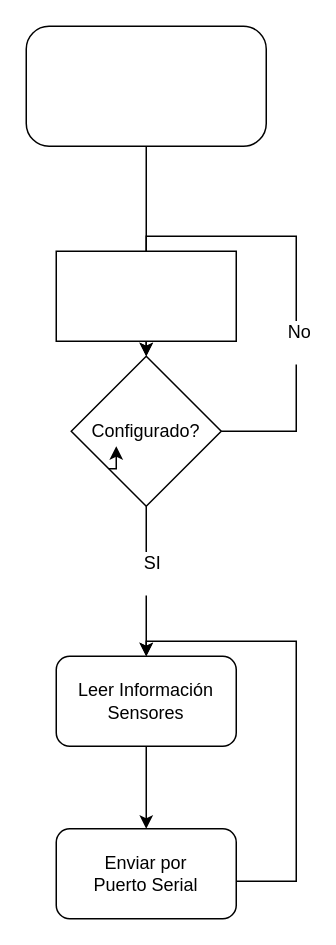
This 336x945 diagram has some shape labels left out. The shapes that lost their labels are listed below. From the top down, each one's box as (x1, y1, x2, y2) in pixels, then its label:
(25, 25, 266, 146): Iniciar Conexión Serial
(55, 250, 236, 341): Con figuración MPU6050
